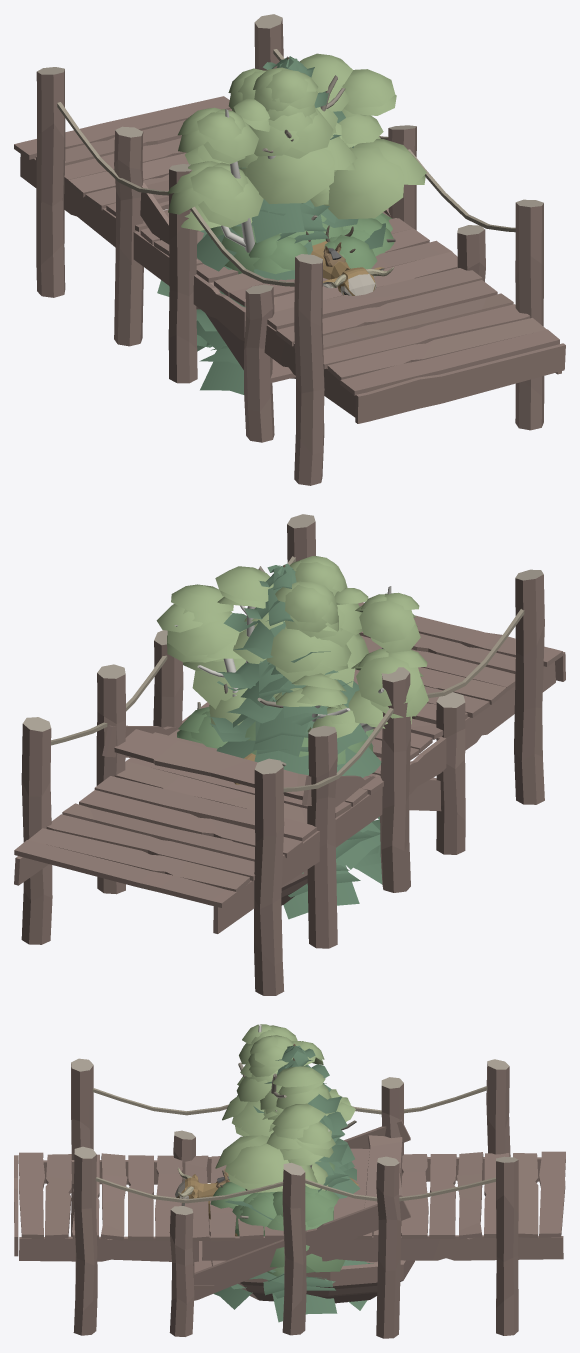
File: GIRIA_TURTAS.glb
3 views of the same model, one above another, from view 1: azimuth 30°, elevation 25°; view 2: azimuth 150°, elevation 25°; view 3: azimuth 270°, elevation 25° (orthographic). The views are drawn at different scales.
Visible parts, largest first — view 1: Dock_Long, Birch_3, Dock_Stairs, Pine_2, Birch_2, Tree_4, Pine_1, Birch_7, Cow, Tree_9, Pine_5; view 2: Dock_Long, Dock_Stairs, Birch_3, Birch_7, Pine_2, Birch_2, Pine_5, Pine_1, Tree_4; view 3: Dock_Long, Dock_Stairs, Birch_3, Birch_2, Boat, Pine_2, Pine_5, Tree_4, Pine_1, Tree_8, Tree_9, Birch_7 (+1 smaller).
Part boxes in pixels (x1=…): Dock_Long: x1=14, y1=14, x2=565, y2=485; Birch_3: x1=167, y1=53, x2=426, y2=252; Dock_Stairs: x1=114, y1=126, x2=485, y2=442; Pine_2: x1=196, y1=167, x2=336, y2=394; Birch_2: x1=316, y1=69, x2=396, y2=147; Tree_4: x1=211, y1=214, x2=382, y2=274; Pine_1: x1=157, y1=203, x2=385, y2=365; Birch_7: x1=185, y1=68, x2=346, y2=223; Cow: x1=311, y1=241, x2=393, y2=295; Tree_9: x1=221, y1=218, x2=394, y2=274; Pine_5: x1=196, y1=56, x2=353, y2=350; Dock_Long: x1=14, y1=514, x2=565, y2=995; Dock_Stairs: x1=96, y1=664, x2=465, y2=948; Birch_3: x1=183, y1=556, x2=428, y2=732; Birch_7: x1=233, y1=581, x2=359, y2=738; Pine_2: x1=216, y1=663, x2=382, y2=919; Birch_2: x1=156, y1=584, x2=284, y2=726; Pine_5: x1=208, y1=563, x2=380, y2=870; Pine_1: x1=210, y1=661, x2=380, y2=897; Tree_4: x1=177, y1=707, x2=373, y2=764; Dock_Long: x1=14, y1=1058, x2=565, y2=1335; Dock_Stairs: x1=169, y1=1077, x2=410, y2=1338; Birch_3: x1=215, y1=1024, x2=325, y2=1192; Birch_2: x1=260, y1=1085, x2=335, y2=1190; Boat: x1=238, y1=1226, x2=414, y2=1303; Pine_2: x1=213, y1=1115, x2=367, y2=1322; Pine_5: x1=253, y1=1044, x2=354, y2=1281; Tree_4: x1=210, y1=1182, x2=339, y2=1227; Pine_1: x1=225, y1=1144, x2=373, y2=1298; Tree_8: x1=263, y1=1211, x2=345, y2=1276; Tree_9: x1=232, y1=1192, x2=276, y2=1236; Birch_7: x1=262, y1=1041, x2=355, y2=1131.
Size of the model in its own units: 9.31 by 10.75 by 21.69.
